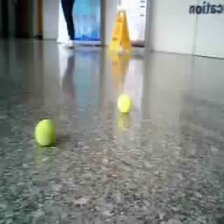tennis: (35, 119, 57, 146), (117, 95, 131, 113)
